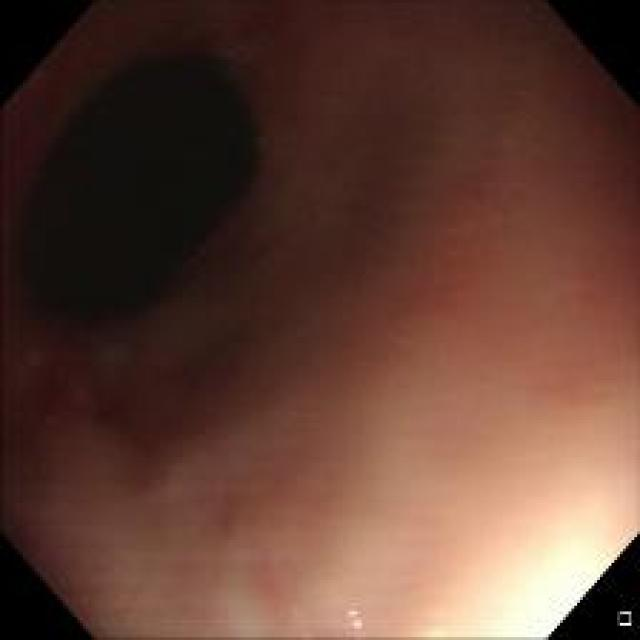blur: (2, 1, 634, 634)
contrast: (12, 50, 260, 344)
saturation: (439, 504, 628, 636)
